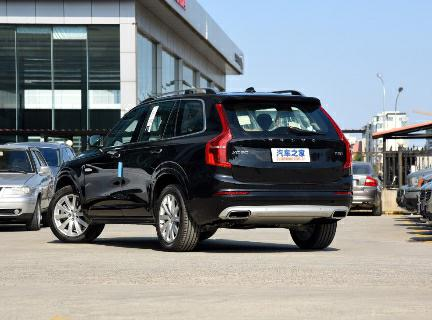沃尔沃-XC90: (47, 89, 358, 252)
